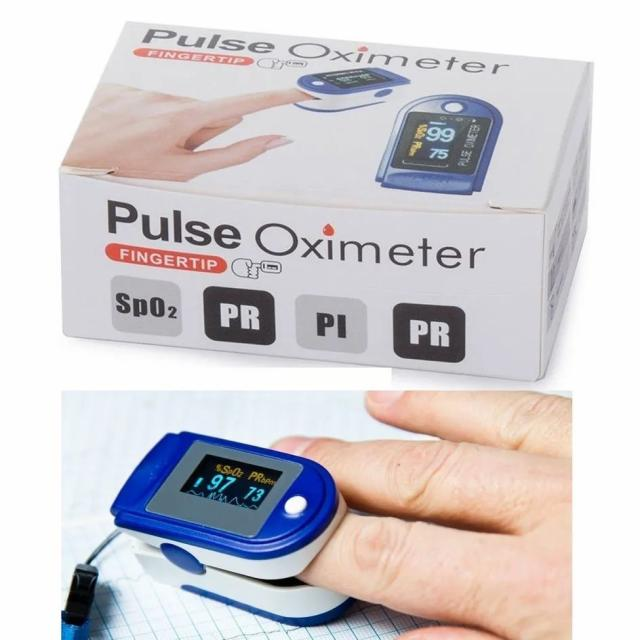oximeter: (60, 410, 383, 634)
